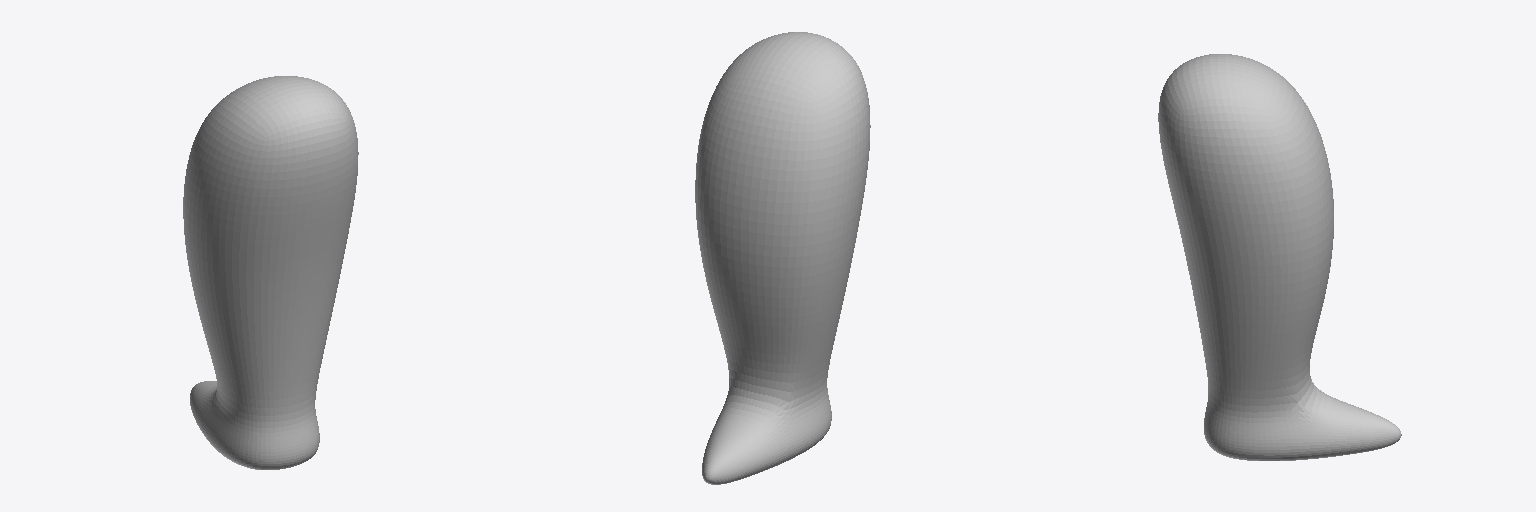
The model's file is piernaDer.obj.
The picture shows the model from 3 angles: view 1: azimuth 30°, elevation 25°; view 2: azimuth 150°, elevation 25°; view 3: azimuth 270°, elevation 25°; orthographic projection.
Parts seen in each view (by area): view 1: piernaDerElRey_Mesh; view 2: piernaDerElRey_Mesh; view 3: piernaDerElRey_Mesh.
Part boxes in pixels (left/top/right/bottom): piernaDerElRey_Mesh: left=183, top=76, right=358, bottom=469; piernaDerElRey_Mesh: left=695, top=32, right=870, bottom=484; piernaDerElRey_Mesh: left=1158, top=54, right=1401, bottom=460.
Size of the model in its own units: 0.8804 by 2.22 by 1.26.